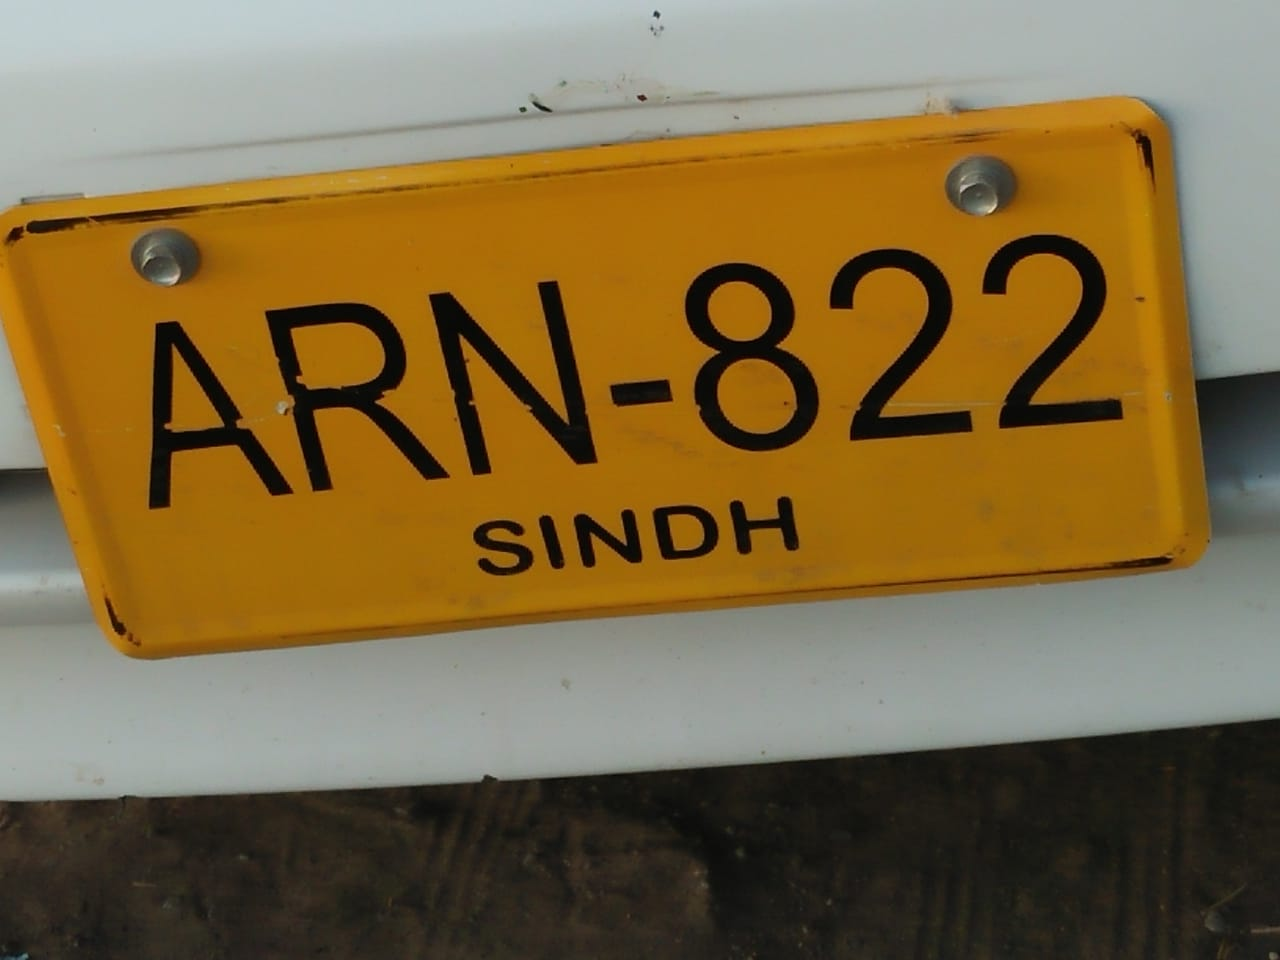license plate: (18, 140, 1238, 606)
